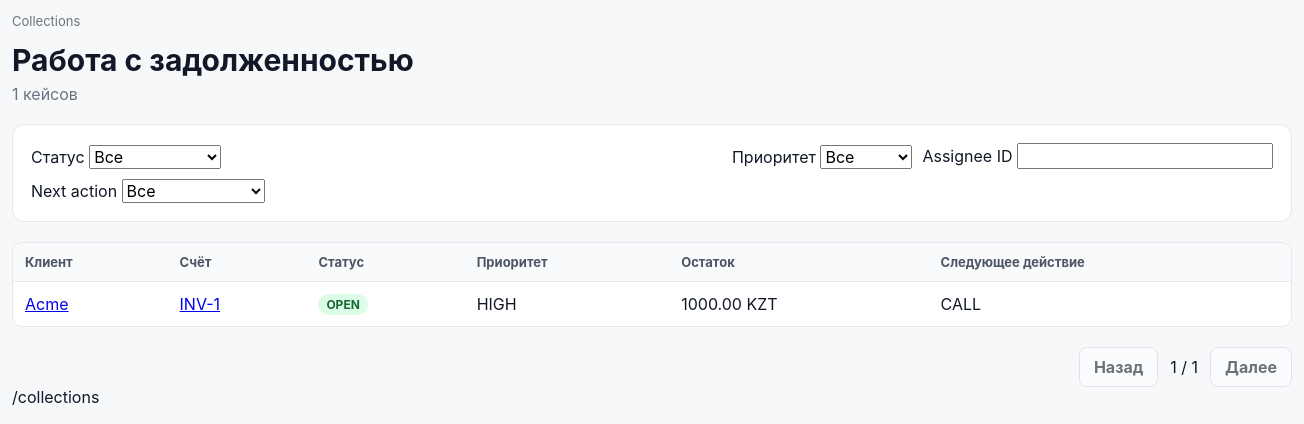
CollectionsPage › serializes queue filters to URL and server query
The image size is (1304, 424).
Expected: the link "Acme" is shown, [25,294,68,314]
Select "IN_PROGRESS" in the dropdown labelled "Статус" at {"x": 155, "y": 157}, box [89,145,221,169]
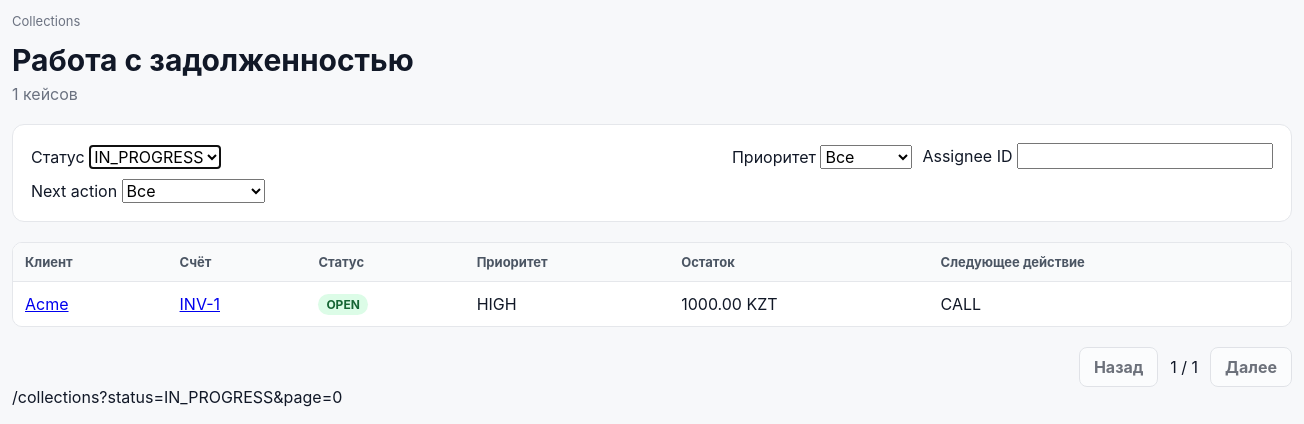
Now the text with test id "location" reads "/collections?status=IN_PROGRESS&page=0", box [12,387,342,407]
